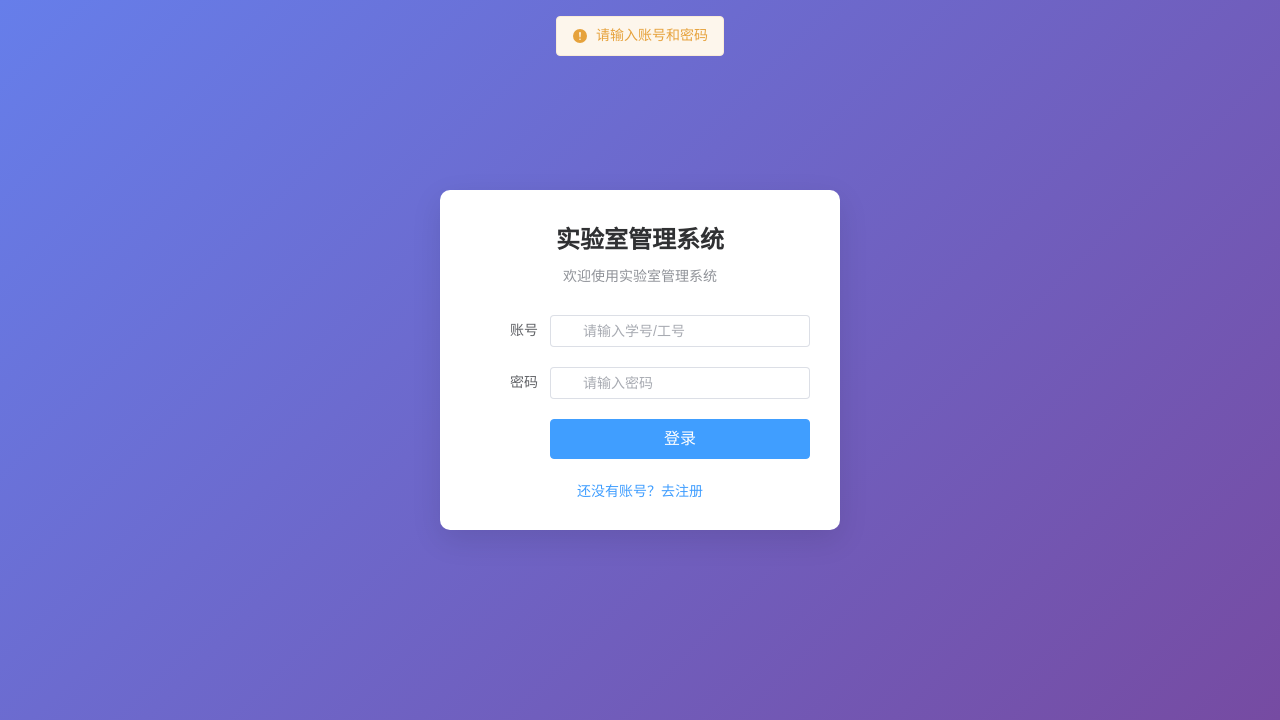
Test: 实验室管理系统 - 登录功能 › 错误密码应该提示错误
Type "admin" into the field with placeholder "请输入学号/工号" at (691, 331), box [583, 316, 799, 346]
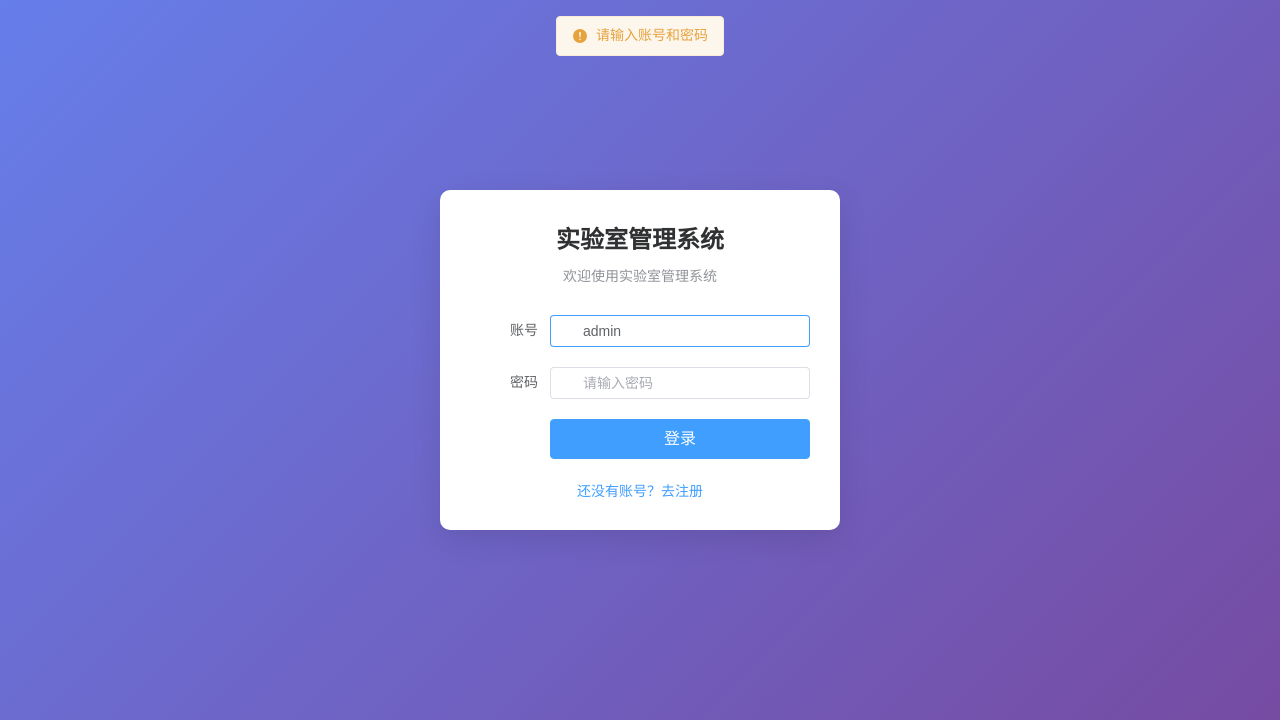
Type "wrongpassword" into the password field with placeholder "请输入密码" at (691, 383), box [583, 368, 799, 398]
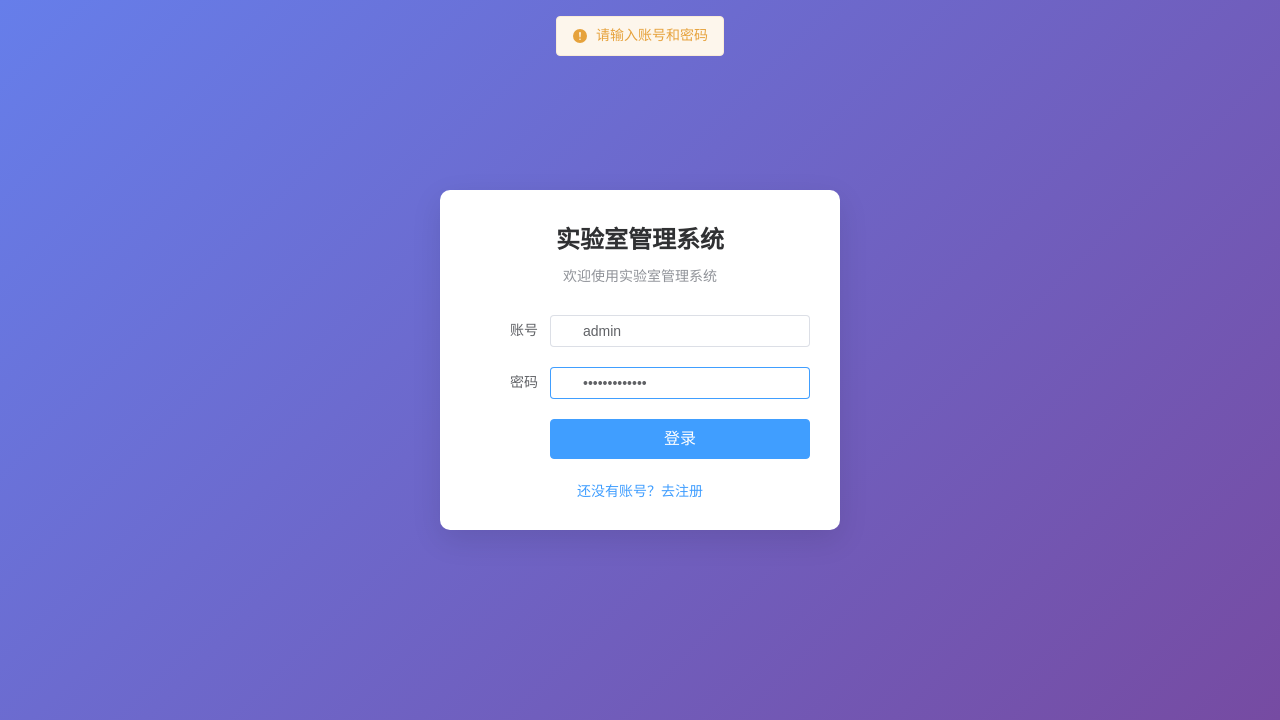
Click the button "登录" at (680, 439), box [550, 419, 810, 459]
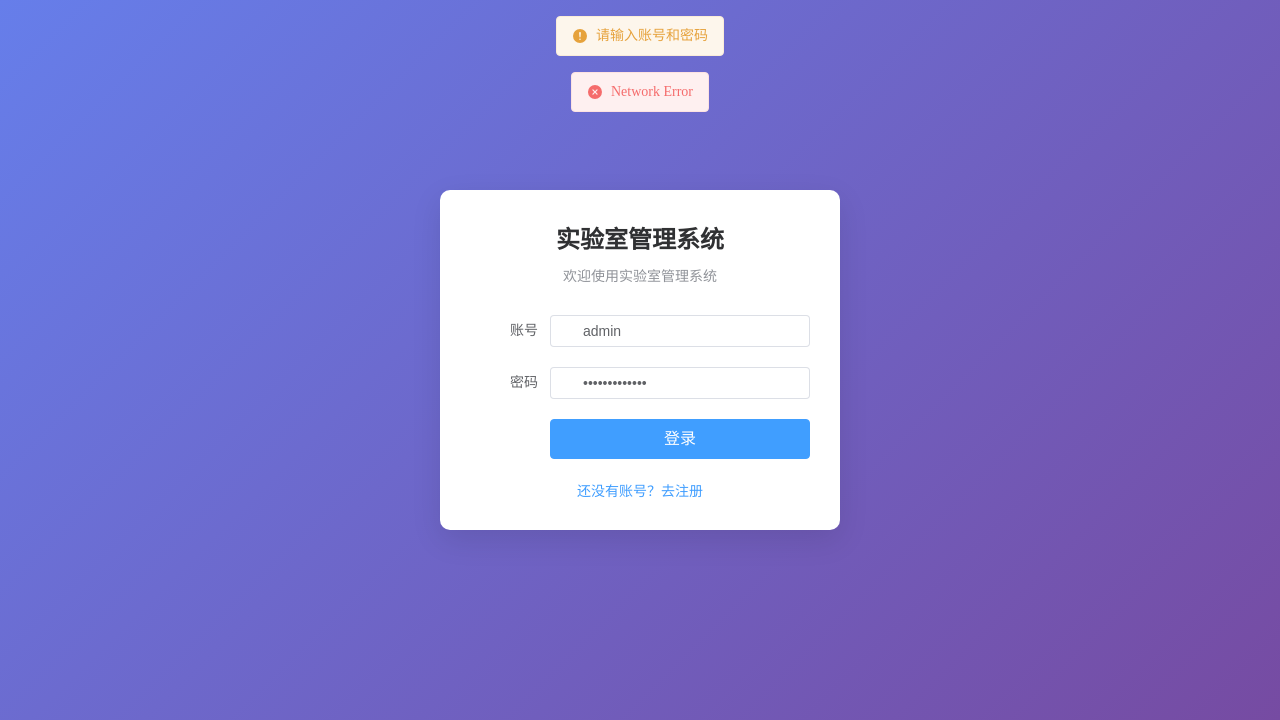
Expected: the message "Network Error" is shown, [571, 72, 709, 112]
